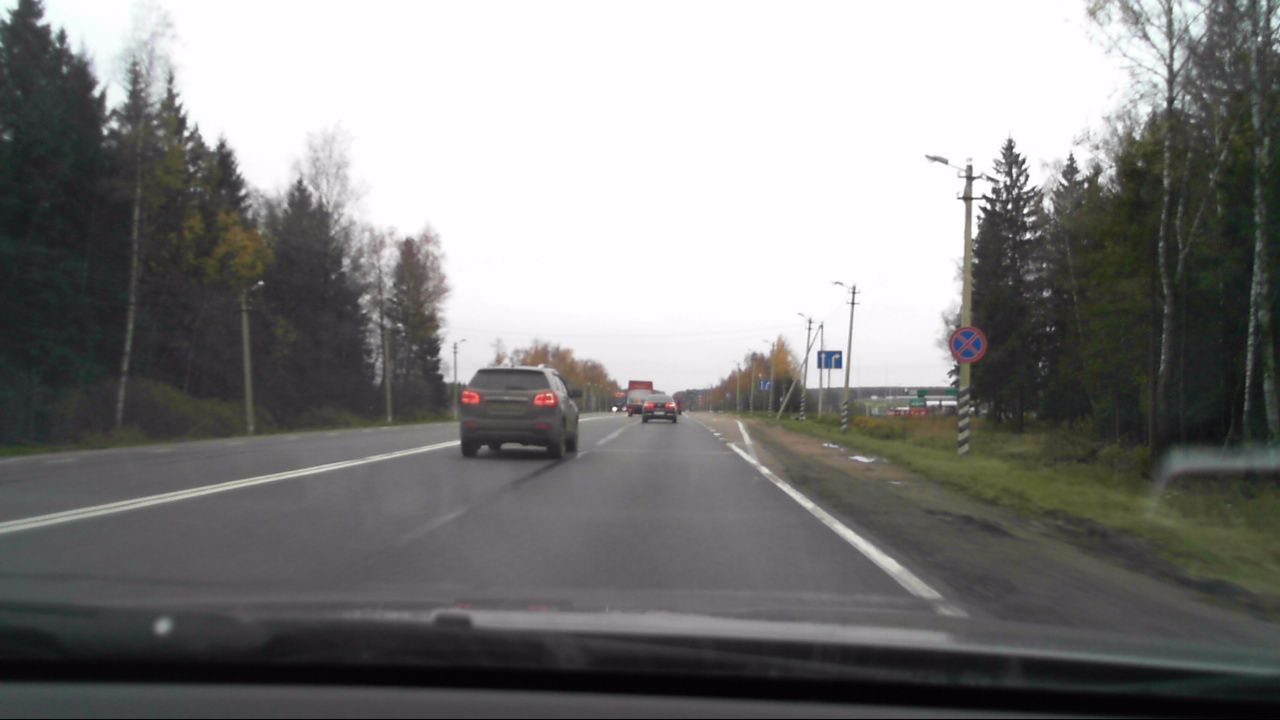No Parking: (949, 325, 987, 363)
